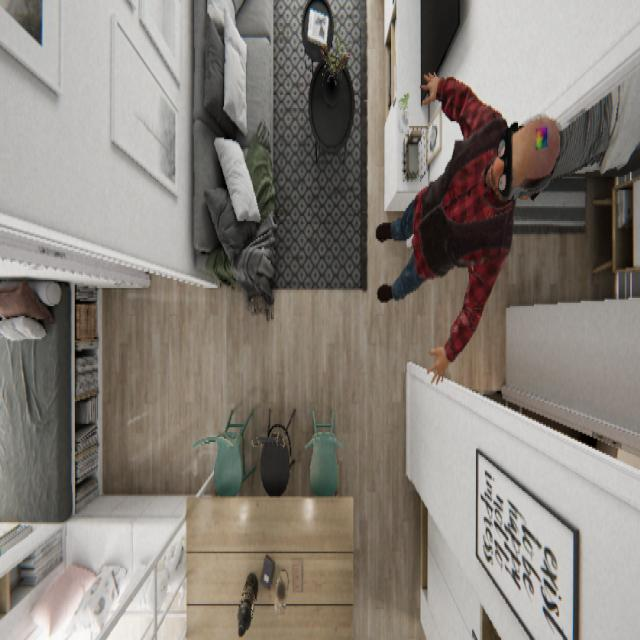Colored-Marker: (533, 121, 549, 152)
Human: (374, 63, 638, 384)
